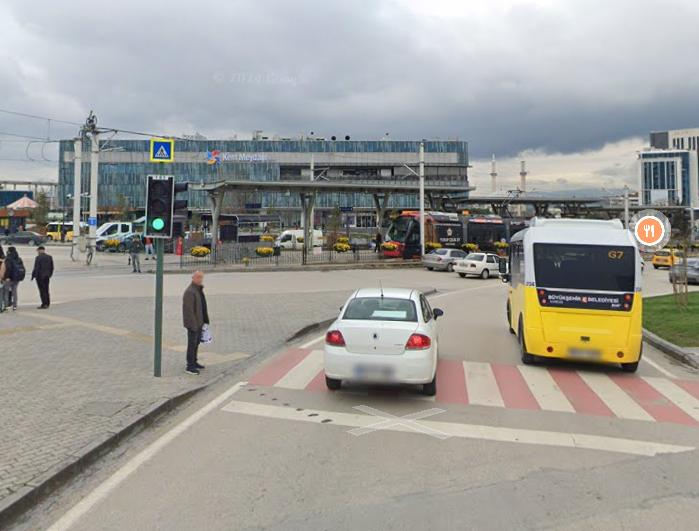greenlight: (147, 176, 171, 235)
